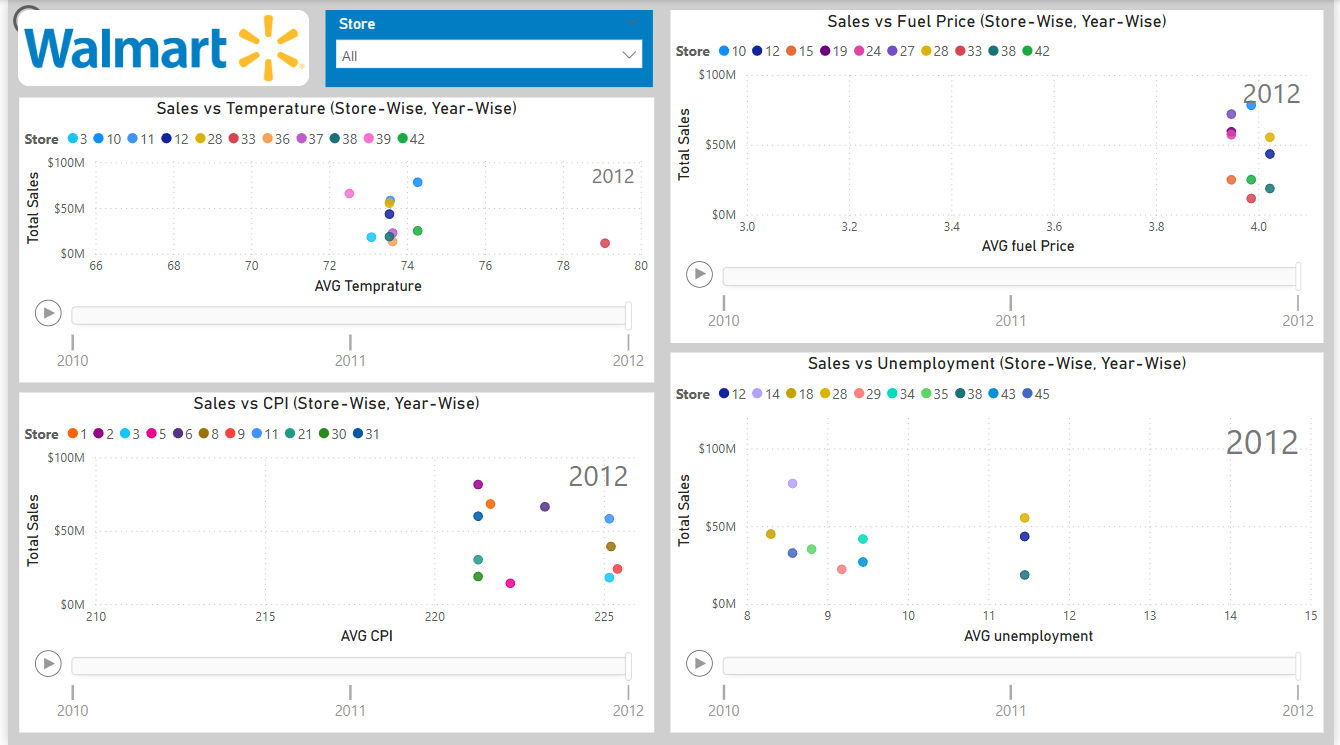

Layout of this report page (visuals, bound fields, positions):
{"tool":"powerbi","page":{"name":"External Factors Impact","canvas":[1280,720],"ordinal":3},"visuals":[{"type":"scatterChart","title":"Sales vs CPI (Store-Wise, Year-Wise)","fields":{"Y":["Walmart Sales.Total Sales"],"Series":["Walmart Sales.Store"],"Play":["Date Table.Year"],"X":["Walmart Sales.AVG CPI"]},"box":[11,378.7,612,328],"z":0},{"type":"actionButton","box":[0,0,100,40],"z":1000},{"type":"scatterChart","title":"Sales vs Fuel Price (Store-Wise, Year-Wise)","fields":{"Y":["Walmart Sales.Total Sales"],"Series":["Walmart Sales.Store"],"Play":["Date Table.Year"],"X":["Walmart Sales.AVG fuel Price"]},"box":[639.5,9.6,629.8,321.1],"z":2000},{"type":"scatterChart","title":"Sales vs Temperature (Store-Wise, Year-Wise)","fields":{"Y":["Walmart Sales.Total Sales"],"Play":["Date Table.Year"],"Series":["Walmart Sales.Store"],"X":["Walmart Sales.AVG Temprature"]},"box":[11,94.7,612,274.4],"z":3000},{"type":"scatterChart","title":"Sales vs Unemployment (Store-Wise, Year-Wise)","fields":{"Y":["Walmart Sales.Total Sales"],"Series":["Walmart Sales.Store"],"Play":["Date Table.Year"],"X":["Walmart Sales.AVG unemployment"]},"box":[639.5,340.3,629.8,366.4],"z":4000},{"type":"shape","box":[9.7,9.7,281.1,73.6],"z":5000},{"type":"image","box":[10.9,9.7,279.9,73.6],"z":6000},{"type":"slicer","fields":{"Values":["Walmart Sales.Store"]},"box":[306,9.6,315.6,74.1],"z":7000}]}

Visuals, with their boxes in screenshot pixels (x1, y1, x2, y2), scaled from the page's 1280x720 canvas onto the 1340x745 screenshot:
"Sales vs CPI (Store-Wise, Year-Wise)" scatterChart: BBox(12, 392, 652, 731)
actionButton: BBox(0, 0, 105, 41)
"Sales vs Fuel Price (Store-Wise, Year-Wise)" scatterChart: BBox(669, 10, 1329, 342)
"Sales vs Temperature (Store-Wise, Year-Wise)" scatterChart: BBox(12, 98, 652, 382)
"Sales vs Unemployment (Store-Wise, Year-Wise)" scatterChart: BBox(669, 352, 1329, 731)
shape: BBox(10, 10, 304, 86)
image: BBox(11, 10, 304, 86)
slicer - Walmart Sales.Store: BBox(320, 10, 651, 87)
